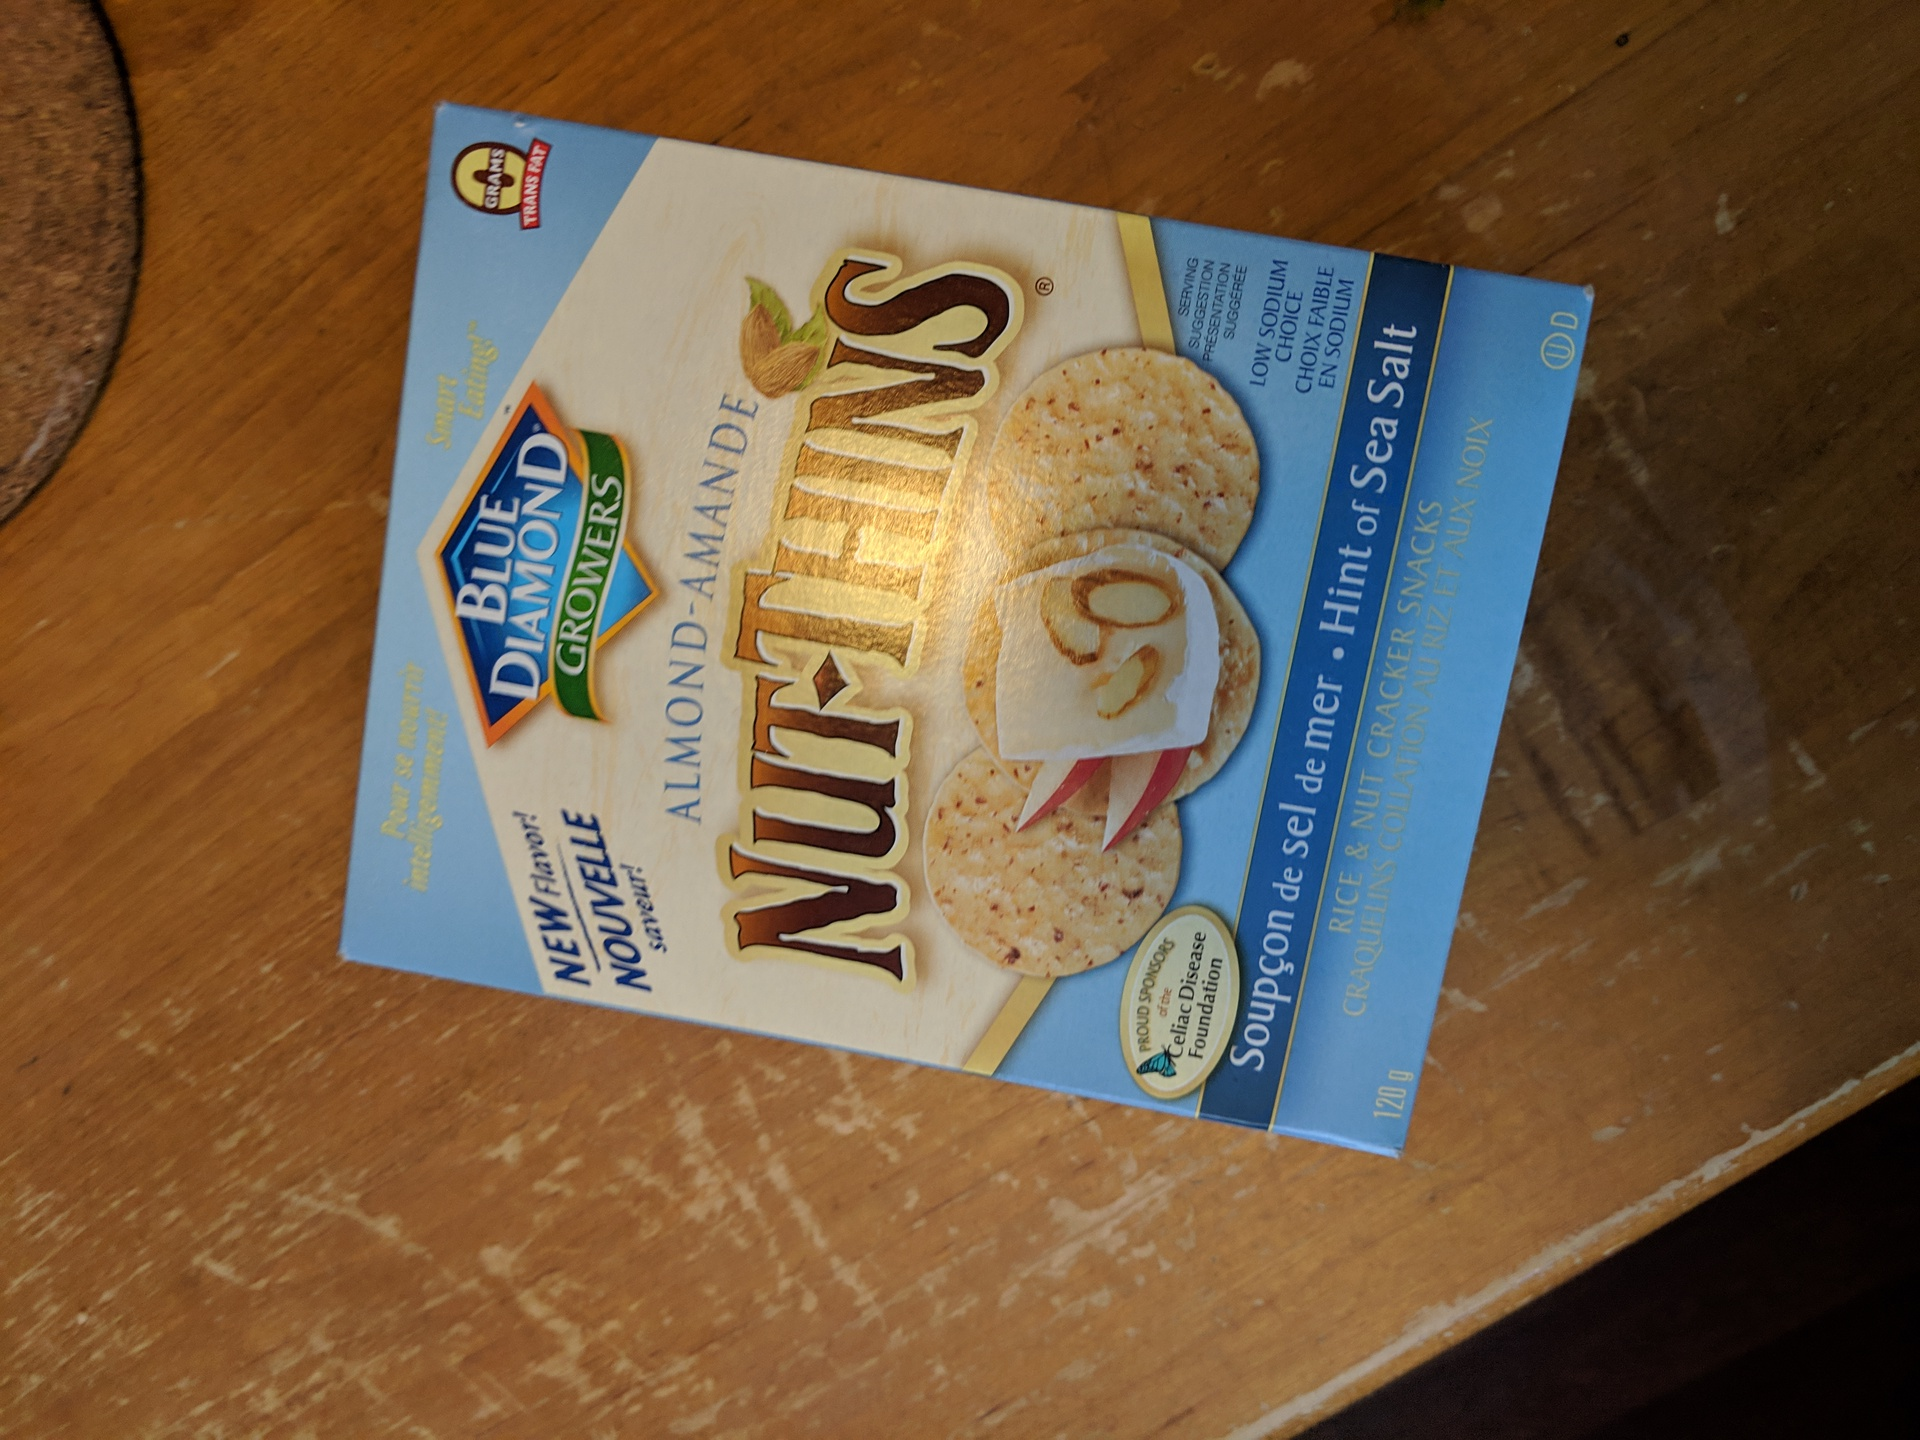blue_diamond_nut_thins_almond_seasalt: (395, 156, 1513, 1094)
